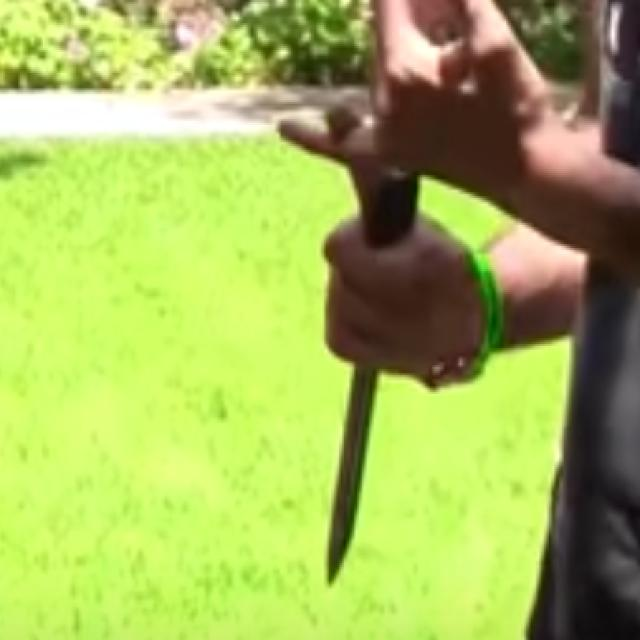knife: (314, 158, 424, 590)
